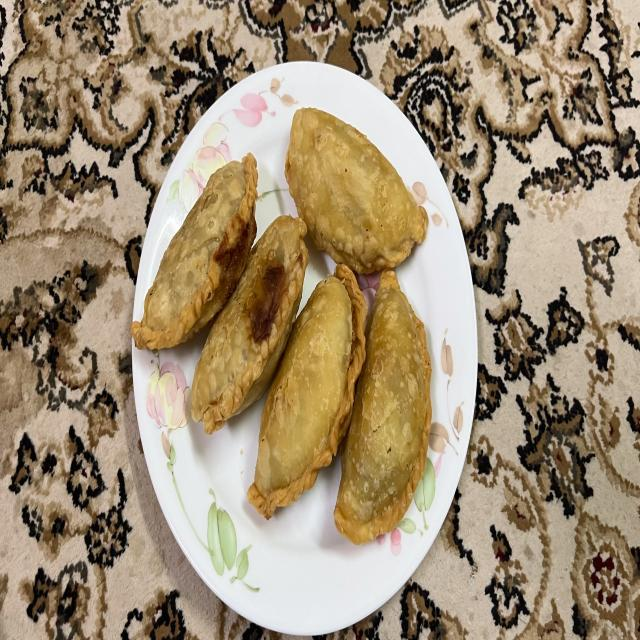karipap: (248, 264, 366, 518), (334, 269, 432, 544), (191, 216, 309, 433), (131, 153, 258, 349), (285, 107, 428, 273)
